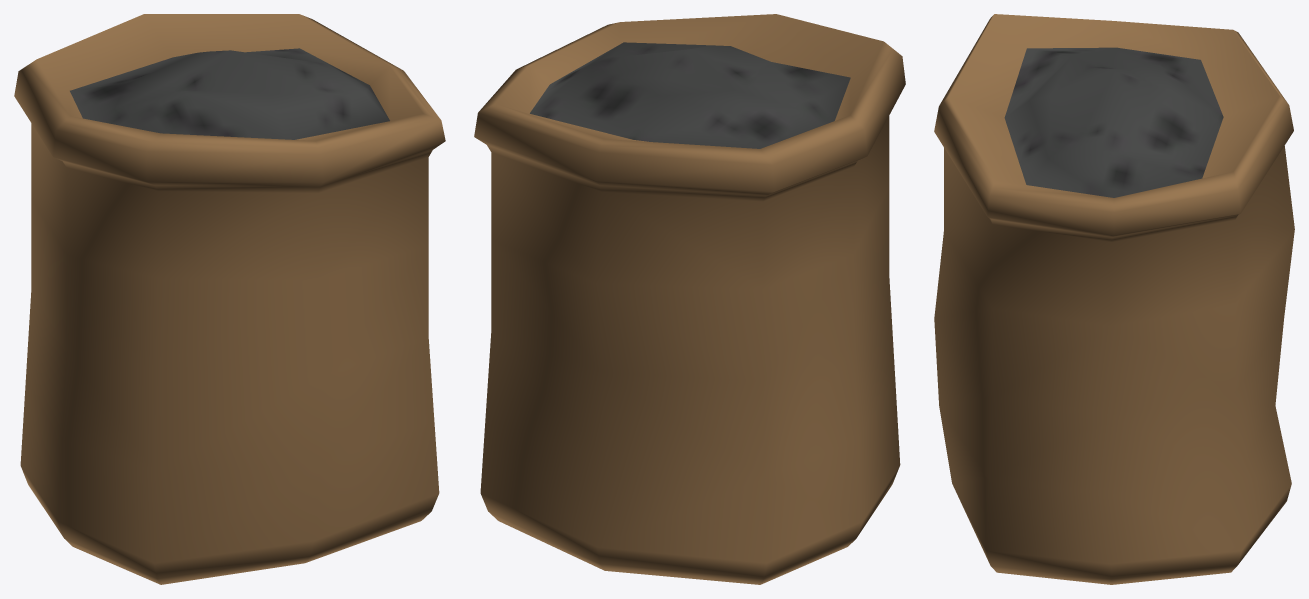
File: SM_Prop_Bag_03.obj
3 views of the same model, side by side, from view 1: azimuth 30°, elevation 25°; view 2: azimuth 150°, elevation 25°; view 3: azimuth 270°, elevation 25° (orthographic). The views are drawn at different scales.
Parts seen in each view (by area): view 1: SM_Prop_Bag_03_Mat_SwatchOverlay_Farm_01_Inst, SM_Prop_Bag_03_Mat_SwatchOverlay_Farm_Main_01_Inst; view 2: SM_Prop_Bag_03_Mat_SwatchOverlay_Farm_01_Inst, SM_Prop_Bag_03_Mat_SwatchOverlay_Farm_Main_01_Inst; view 3: SM_Prop_Bag_03_Mat_SwatchOverlay_Farm_01_Inst, SM_Prop_Bag_03_Mat_SwatchOverlay_Farm_Main_01_Inst.
Part boxes in pixels (x1,y1,x2,y2): SM_Prop_Bag_03_Mat_SwatchOverlay_Farm_01_Inst: [14, 14, 445, 584]; SM_Prop_Bag_03_Mat_SwatchOverlay_Farm_Main_01_Inst: [70, 48, 389, 139]; SM_Prop_Bag_03_Mat_SwatchOverlay_Farm_01_Inst: [474, 14, 905, 584]; SM_Prop_Bag_03_Mat_SwatchOverlay_Farm_Main_01_Inst: [530, 42, 850, 148]; SM_Prop_Bag_03_Mat_SwatchOverlay_Farm_01_Inst: [934, 14, 1294, 584]; SM_Prop_Bag_03_Mat_SwatchOverlay_Farm_Main_01_Inst: [1004, 47, 1223, 197].
Size of the model in its own units: 0.5619 by 0.6956 by 0.516.
2 materials, 2 textured.
